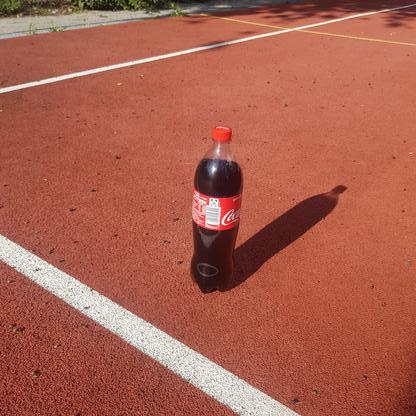coca-cola: (190, 124, 243, 296)
